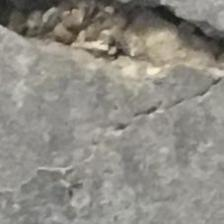Crack: (5, 7, 224, 91)
